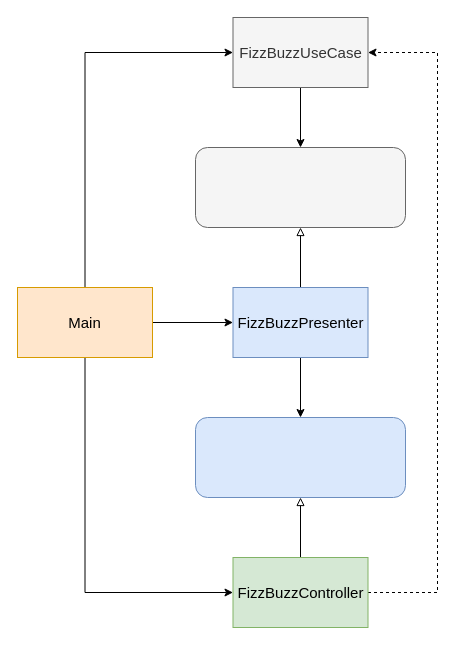
This 463x645 diagram has some shape labels left out. Each missing label, with the centre of its shape:
"<FizzBuzzPresenterOutput>" belongs at point (300, 457).
"<FizzBuzzUseCaseOutput>" belongs at point (300, 187).
